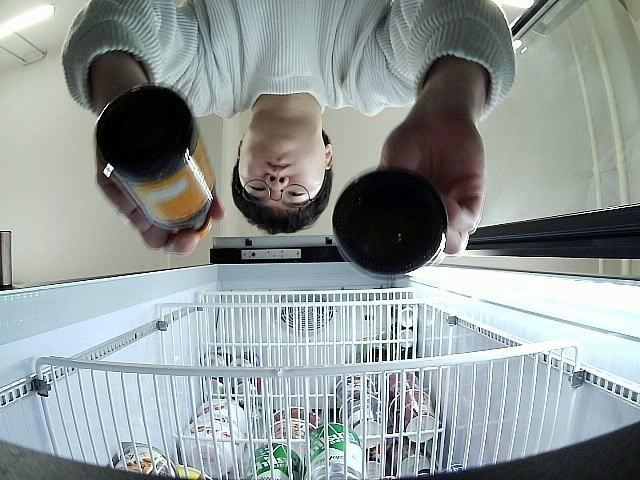17_vita500: (94, 83, 215, 242), (332, 166, 449, 278)
